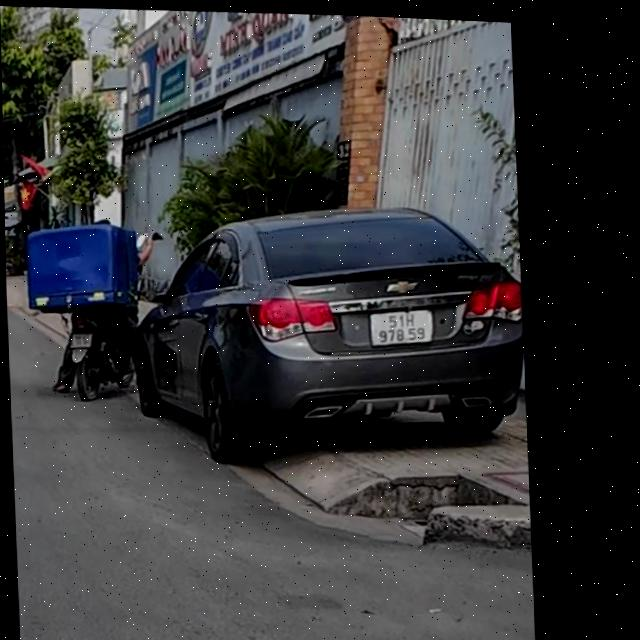car: (131, 184, 530, 483)
motorcycle: (61, 301, 139, 406)
plate: (363, 303, 437, 349), (67, 325, 94, 351)
